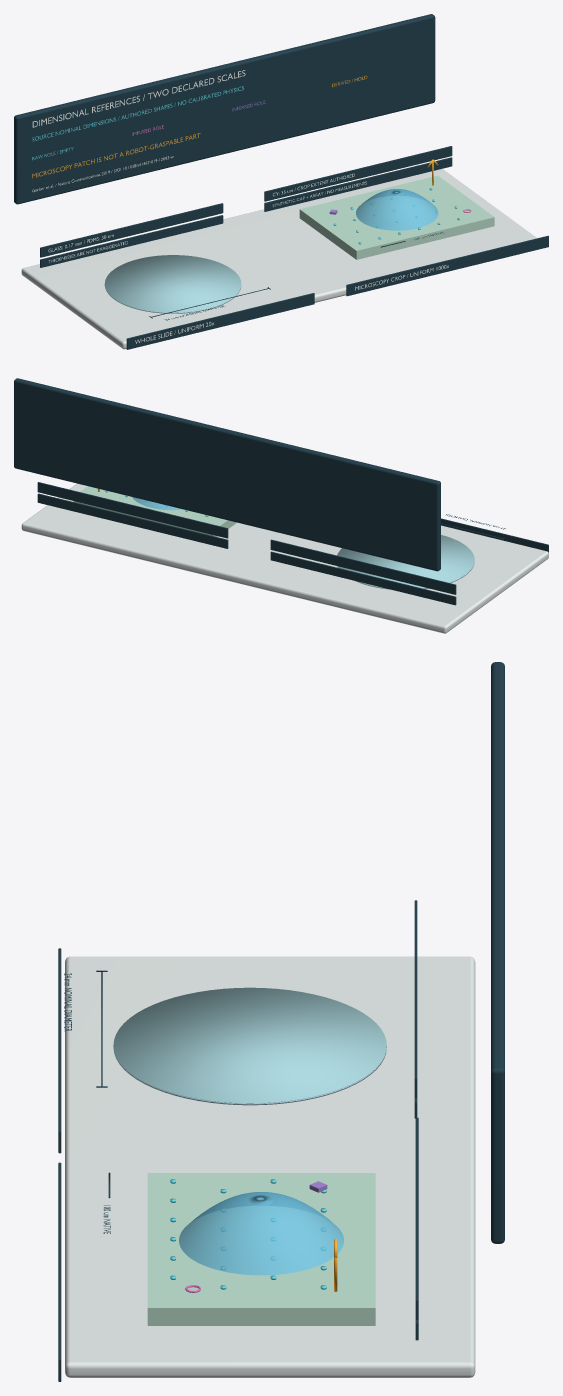
Rendered from wetting_dimension_references.glb.
3 renders of one model, top to bottom at view 1: azimuth 30°, elevation 25°; view 2: azimuth 150°, elevation 25°; view 3: azimuth 270°, elevation 25°, orthographic. The views are drawn at different scales.
Parts seen in each view (by area): view 1: display.banner, display.base, display.micro.cy_patch, display.slide.pdms, display.micro.synthetic_drop, display.micro.label.plate, display.slide.label.plate, display.micro.thickness.plate, display.slide.height.plate, display.micro.limit.plate, display.slide.height_limit.plate, display.title (+2 smaller); view 2: display.banner, display.base, display.slide.pdms, display.micro.thickness.plate, display.slide.height.plate, display.micro.limit.plate, display.slide.height_limit.plate, display.micro.cy_patch, display.slide.label.plate; view 3: display.base, display.micro.cy_patch, display.slide.pdms, display.micro.synthetic_drop, display.banner, display.micro.label.plate.
Part boxes in pixels (x1=…): display.banner: x1=14, y1=14, x2=435, y2=204; display.base: x1=21, y1=168, x2=536, y2=349; display.micro.cy_patch: x1=299, y1=175, x2=494, y2=259; display.slide.pdms: x1=104, y1=255, x2=241, y2=312; display.micro.synthetic_drop: x1=356, y1=189, x2=438, y2=230; display.micro.label.plate: x1=346, y1=235, x2=548, y2=296; display.slide.label.plate: x1=126, y1=293, x2=314, y2=349; display.micro.thickness.plate: x1=264, y1=146, x2=452, y2=201; display.slide.height.plate: x1=40, y1=203, x2=223, y2=257; display.micro.limit.plate: x1=264, y1=157, x2=452, y2=211; display.slide.height_limit.plate: x1=40, y1=215, x2=223, y2=267; display.title: x1=32, y1=70, x2=245, y2=127; display.banner: x1=14, y1=378, x2=440, y2=571; display.base: x1=21, y1=483, x2=548, y2=633; display.slide.pdms: x1=337, y1=535, x2=474, y2=588; display.micro.thickness.plate: x1=37, y1=482, x2=228, y2=538; display.slide.height.plate: x1=270, y1=539, x2=456, y2=594; display.micro.limit.plate: x1=37, y1=493, x2=228, y2=548; display.slide.height_limit.plate: x1=270, y1=551, x2=456, y2=605; display.micro.cy_patch: x1=73, y1=486, x2=236, y2=536; display.slide.label.plate: x1=441, y1=518, x2=548, y2=552; display.base: x1=65, y1=956, x2=475, y2=1377; display.micro.cy_patch: x1=147, y1=1173, x2=375, y2=1325; display.slide.pdms: x1=113, y1=987, x2=386, y2=1103; display.micro.synthetic_drop: x1=179, y1=1192, x2=343, y2=1275; display.banner: x1=491, y1=662, x2=504, y2=1243; display.micro.label.plate: x1=58, y1=1162, x2=61, y2=1381.
Bounding box in the file's own units: 1.72 × 0.6 × 0.785.
